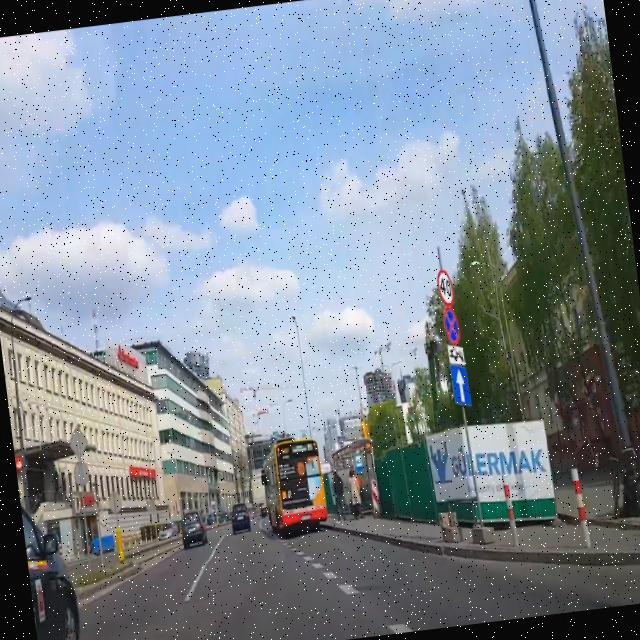Zakaz zatrzymywania sie: (442, 304, 461, 345)
